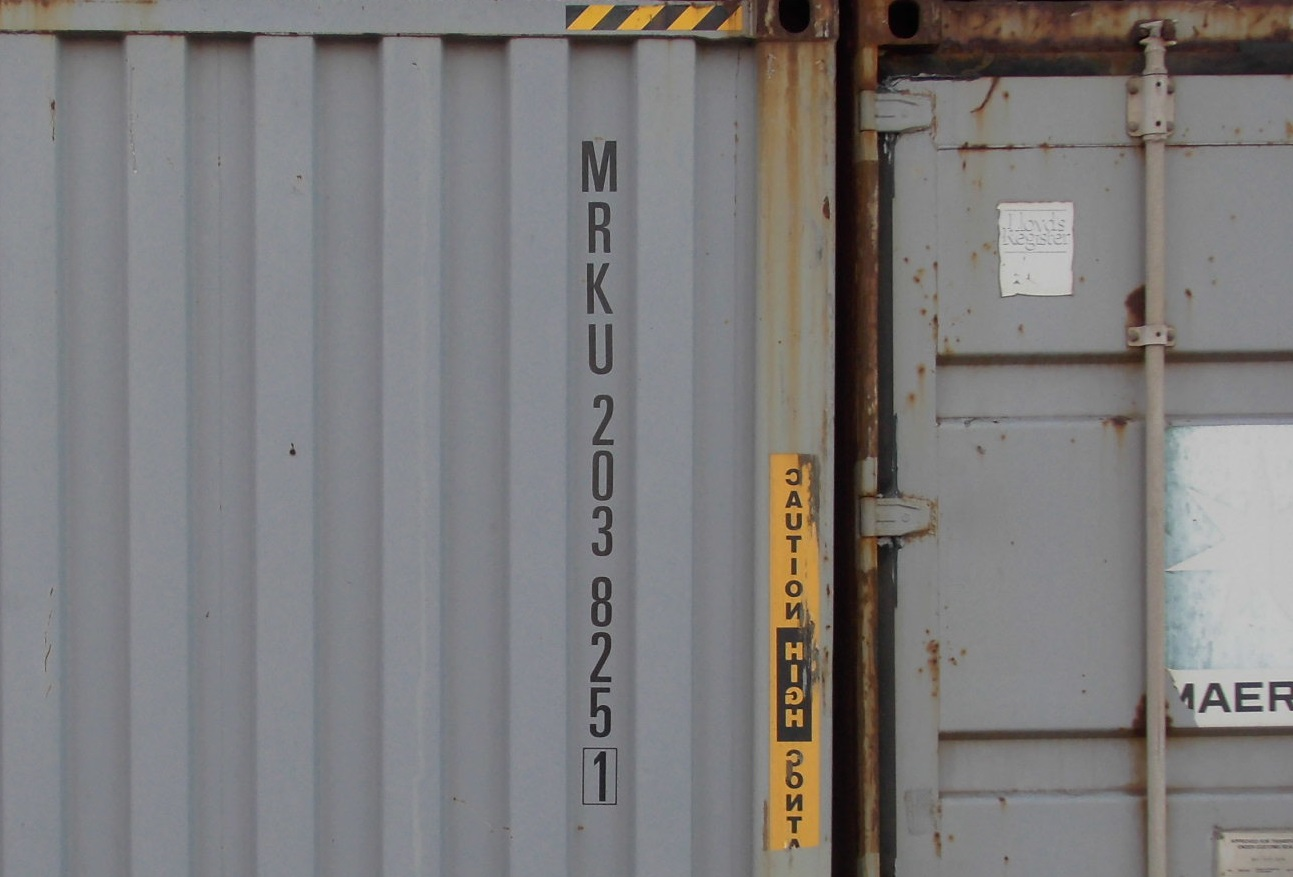container_door: (867, 3, 1283, 871)
container_no_door: (3, 3, 826, 877)
